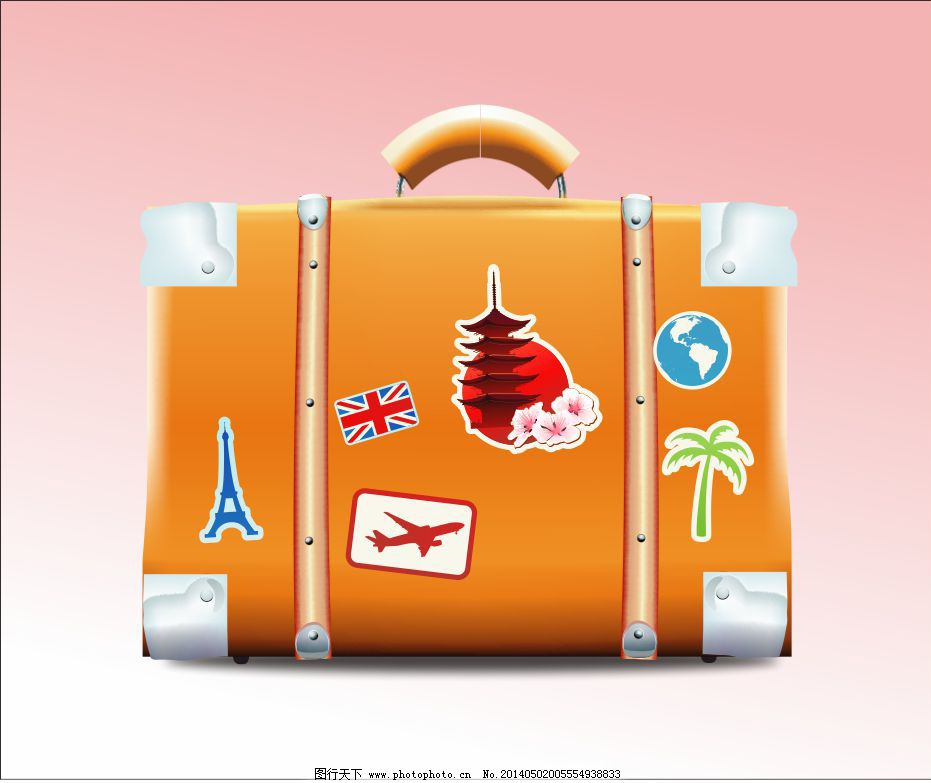shoutibox: (136, 99, 802, 670)
